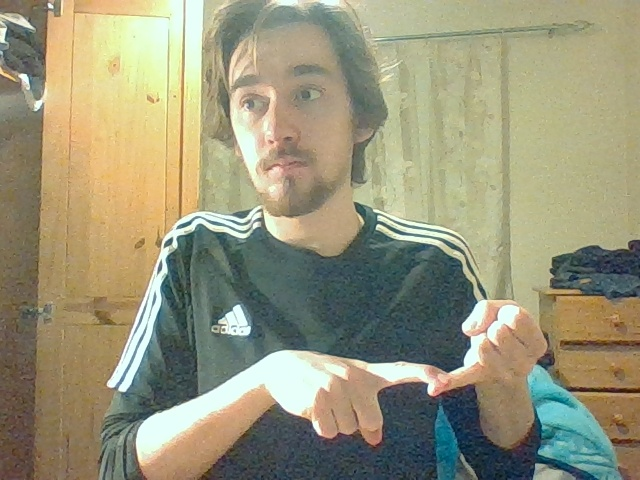step: (305, 299, 547, 445)
